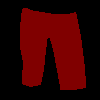bermuda: (19, 7, 86, 90)
